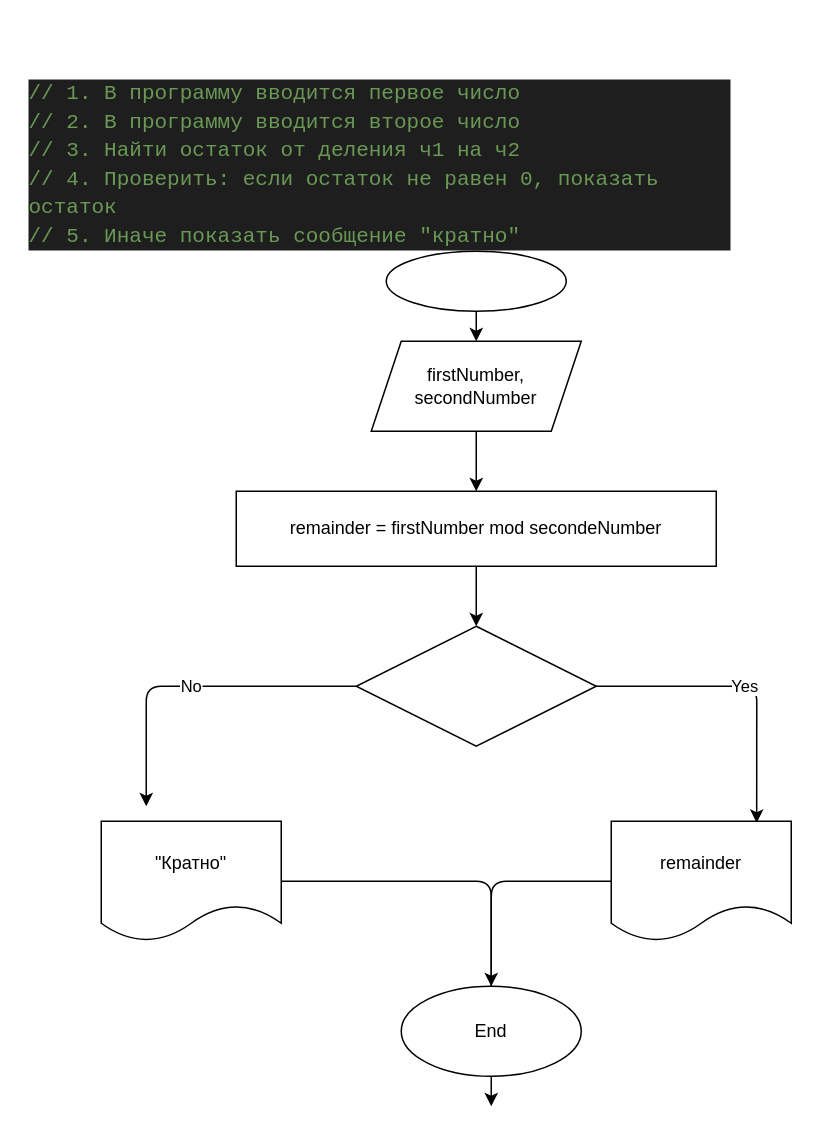
Image size: 818x1145. Some labels were removed from this diagram. Each missing label, with the centre of its shape:
remainder !=0: (x=475, y=685)
start: (x=475, y=280)
